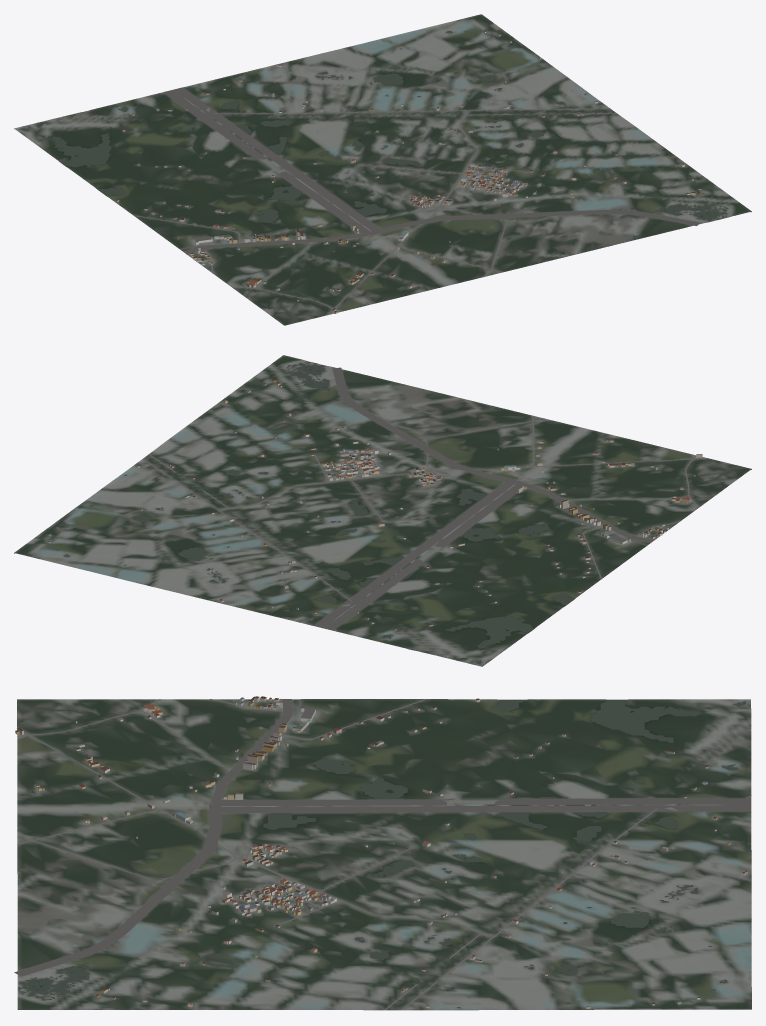
3 views of the same model, one above another, from view 1: azimuth 30°, elevation 25°; view 2: azimuth 150°, elevation 25°; view 3: azimuth 270°, elevation 25° (orthographic). The views are drawn at different scales.
Visible parts, largest first — view 1: ground, roads, water, buildings; view 2: ground, roads, water, buildings; view 3: ground, roads, water, buildings.
Boxes of the visible parts, x1,y1,x2,y2 form: ground: [14, 14, 751, 325]; roads: [133, 62, 700, 314]; water: [19, 31, 728, 223]; buildings: [115, 31, 704, 313]; ground: [14, 355, 751, 666]; roads: [142, 367, 708, 631]; water: [56, 361, 573, 664]; buildings: [48, 379, 702, 630]; ground: [17, 699, 751, 1010]; roads: [14, 699, 751, 1010]; water: [18, 699, 750, 1008]; buildings: [15, 696, 747, 1008].
Bounding box in the file's own units: 1405 × 25.21 × 1409.
